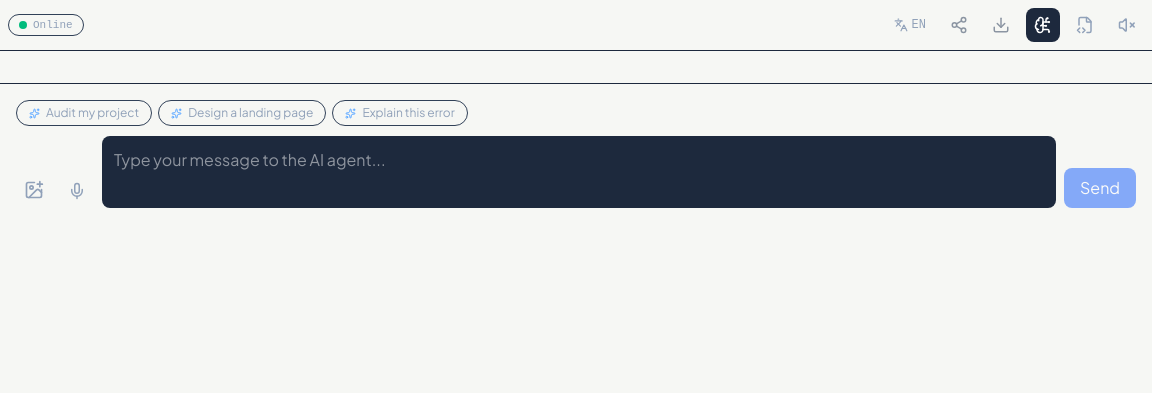
Test: ChatInterface Tier-S wiring contract (M10) › enables share with the real conversation id after messaging
In the text box with placeholder "Type your message to the AI agent...": (579, 172) [102,136,1056,208], type "Start talking"
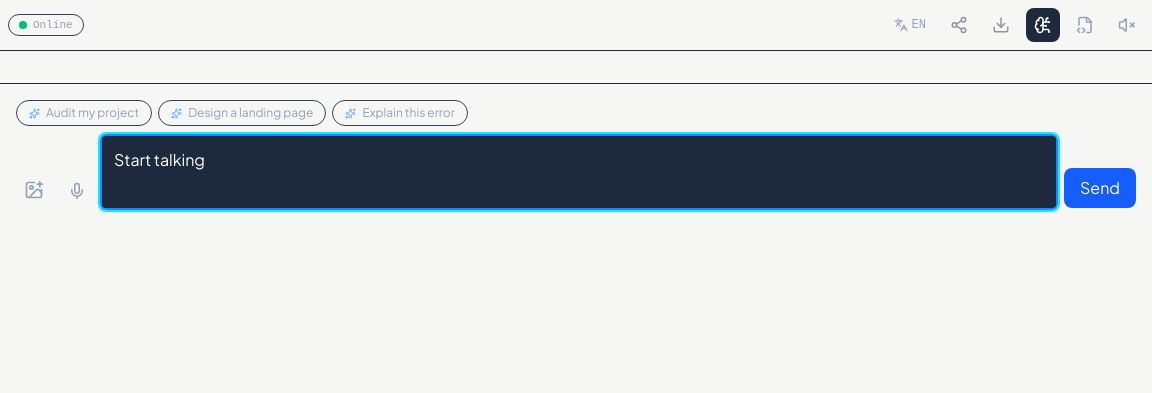
Click the button "Send": click(1100, 188) [1064,168,1136,208]
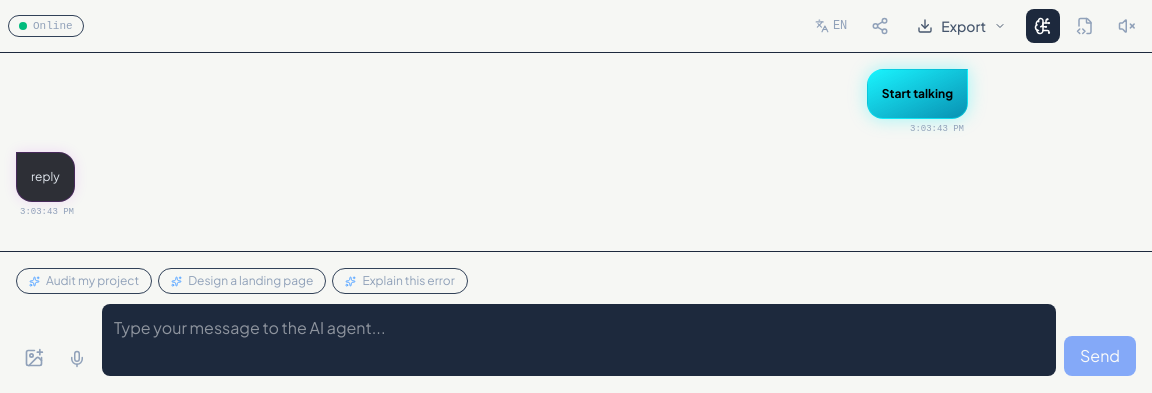
Check: the button titled "Share Conversation" is enabled, box [863,9,897,43]
